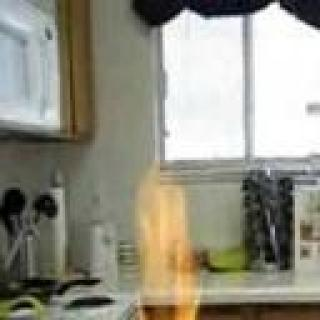fire: (126, 178, 261, 320)
